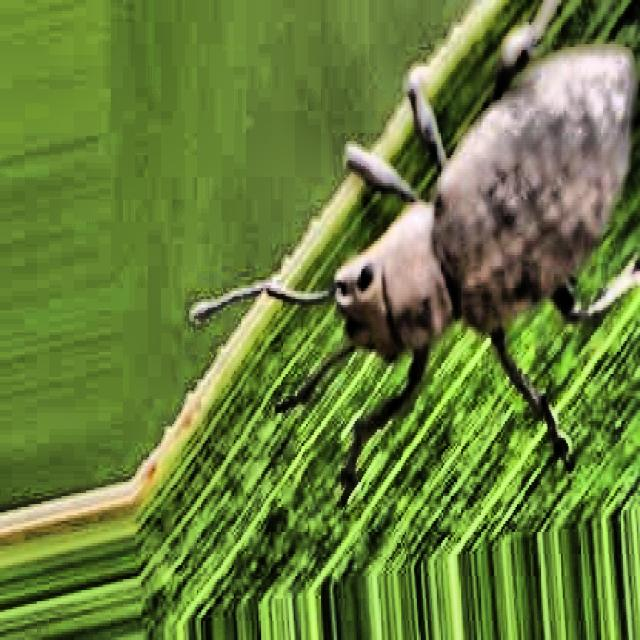Stink bug: (256, 0, 636, 467)
